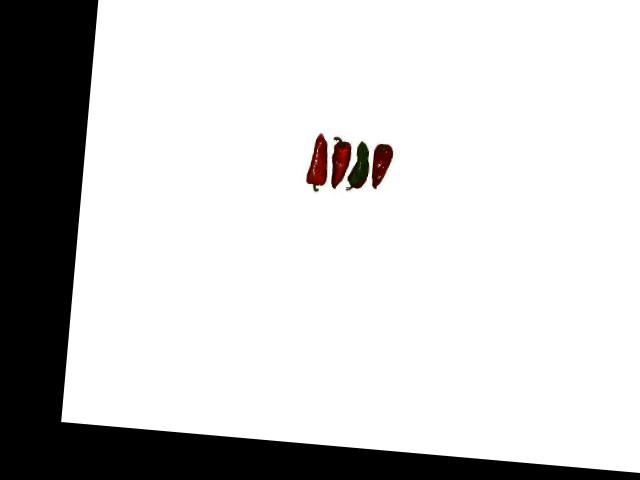bell_pepper: (368, 141, 399, 194)
